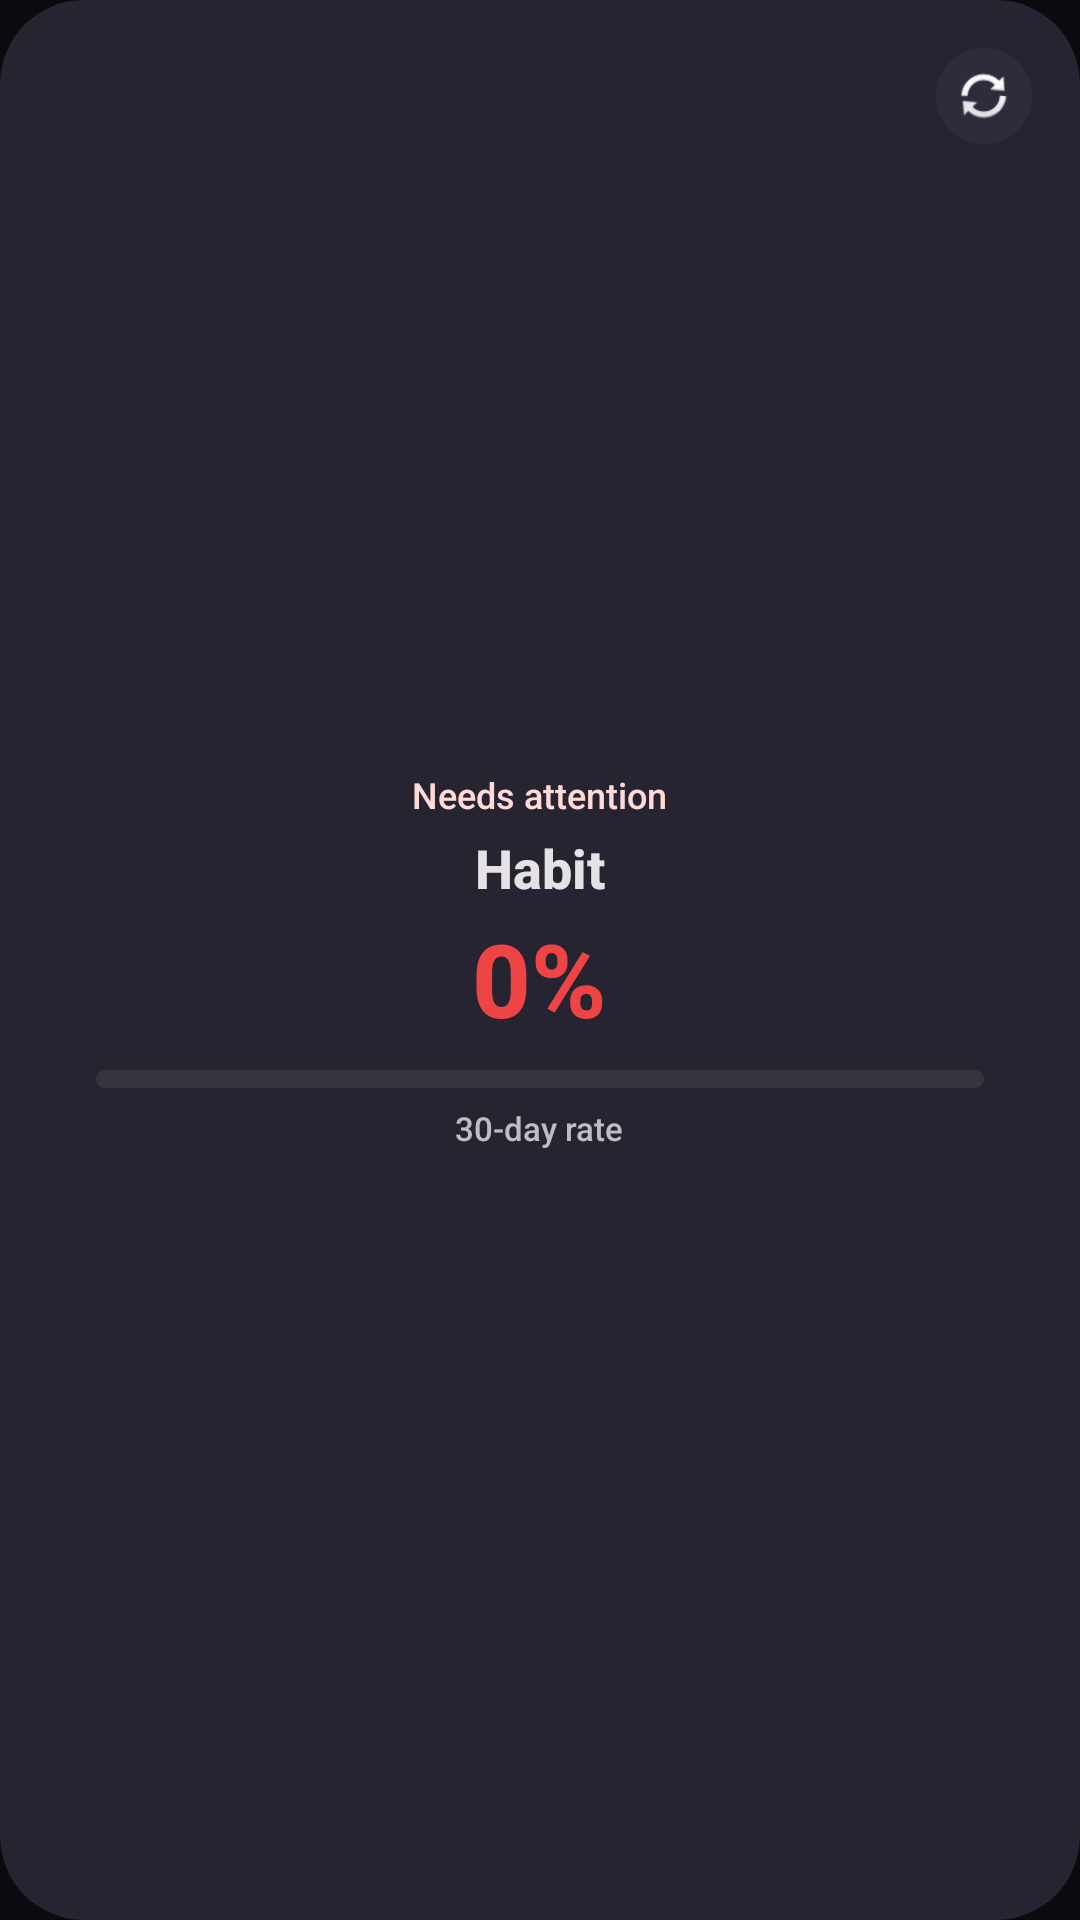

Screen size 1080px×1920px. Icon name, then its box in pixels as (x1, y1, x2, y2):
Refresh: (936, 48, 1032, 144)
